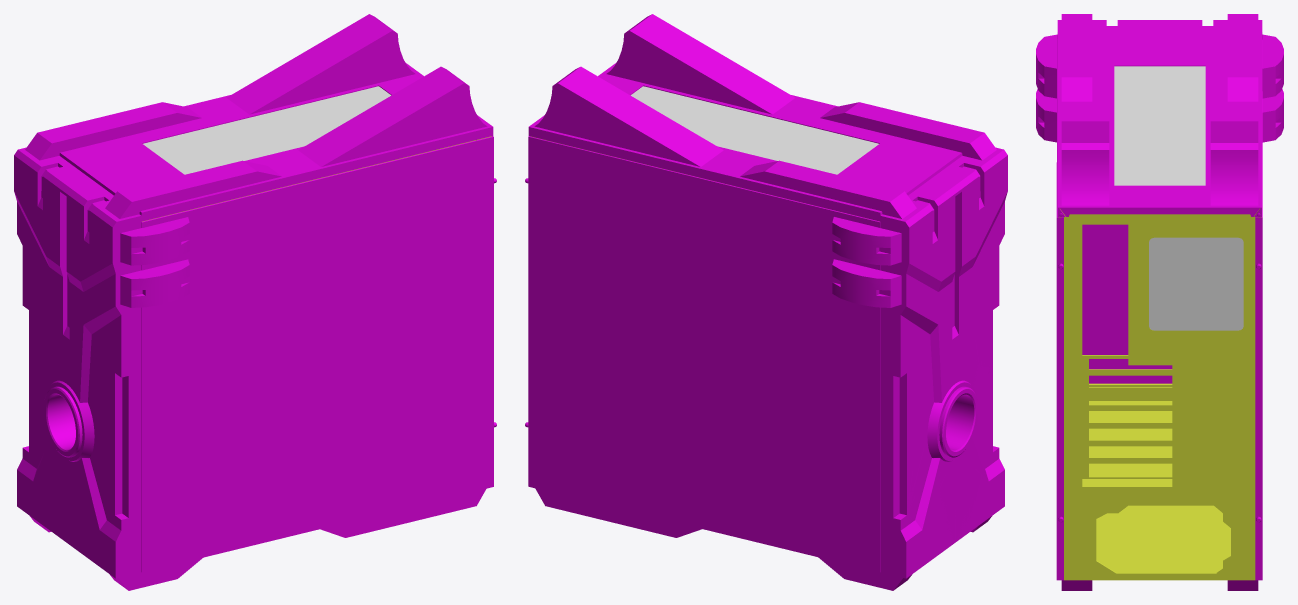
File: pc_case_mod_e_cover.fbx
3 renders of one model, left to right at view 1: azimuth 30°, elevation 25°; view 2: azimuth 150°, elevation 25°; view 3: azimuth 270°, elevation 25°, orthographic. The views are drawn at different scales.
Visible parts, largest first — view 1: pc_case_mod_e_cover, pc_case_mod_e_wire_1; view 2: pc_case_mod_e_cover_door, pc_case_mod_e_cover, pc_case_mod_e_wire_1; view 3: pc_case_mod_e_cover, pc_case_mod_e_wire_1, pc_case_mod_e_wire, pc_case_mod_e_cover_door.
Part boxes in pixels (x1,y1,x2,y2): pc_case_mod_e_cover: (14,14,496,590); pc_case_mod_e_wire_1: (143,86,391,174); pc_case_mod_e_cover_door: (525,136,901,572); pc_case_mod_e_cover: (528,14,1007,590); pc_case_mod_e_wire_1: (630,86,878,174); pc_case_mod_e_cover: (1036,14,1262,590); pc_case_mod_e_wire_1: (1114,66,1205,185); pc_case_mod_e_wire: (1149,237,1243,330); pc_case_mod_e_cover_door: (1255,34,1283,580).
Size of the model in its own units: 49.62 by 52.13 by 26.53.
